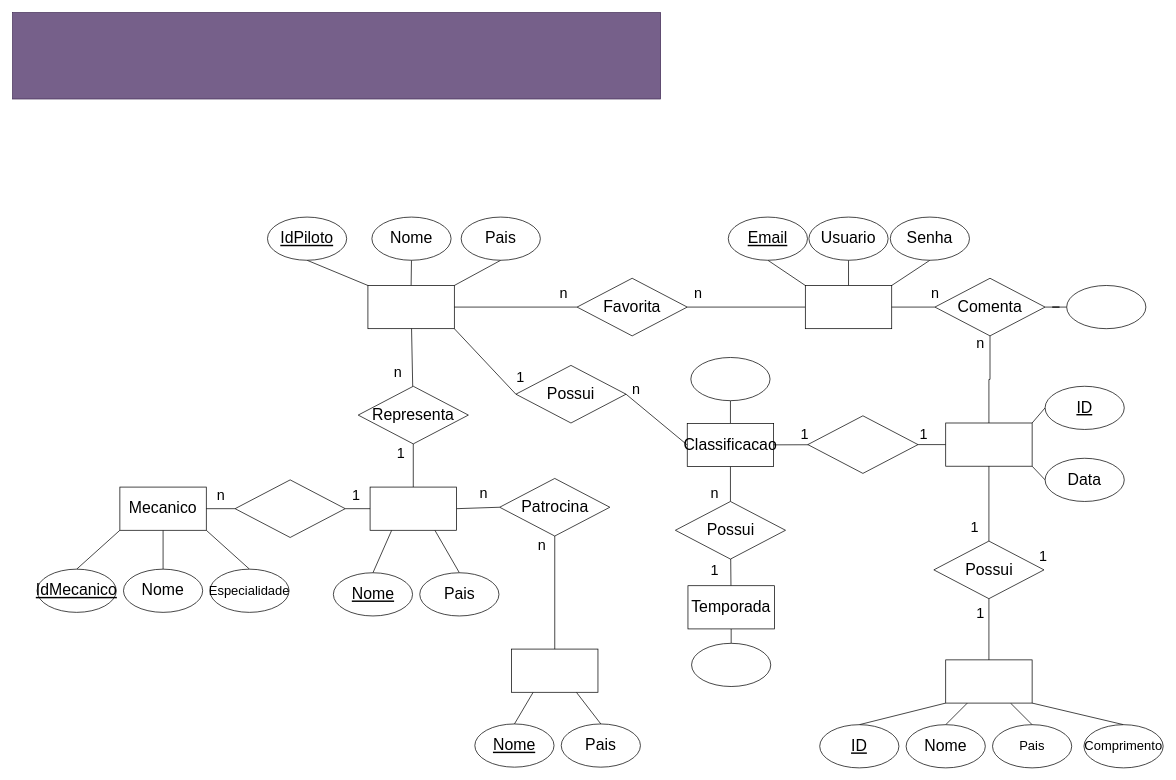
Image size: 1176x780. Some labels were removed from this diagram. The centre of each missing label's shape, as x and y in pixels:
Ano: (731,665)
AppUser: (848,307)
Atualiza: (862,444)
Circuito: (988,681)
Corrida: (988,444)
MotoGP Diagrama Conceitual: (336,55)
Patrocinador: (554,670)
Piloto: (410,307)
Pontos: (730,379)
Texto: (1106,307)
Time: (412,508)
Trabalha: (289,508)
